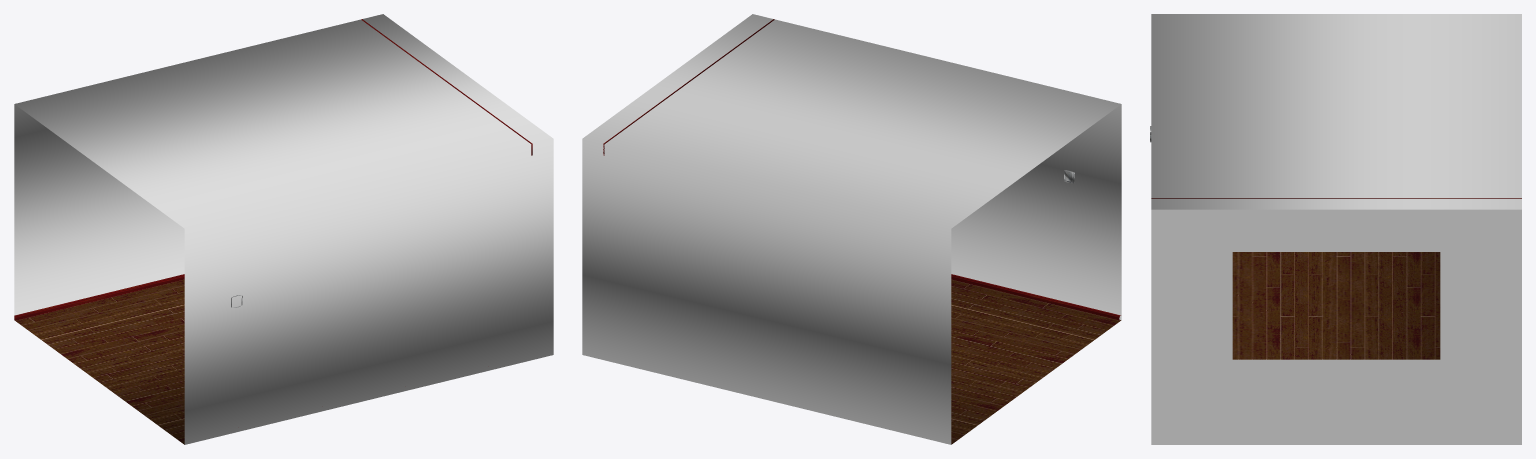
3 renders of one model, left to right at view 1: azimuth 30°, elevation 25°; view 2: azimuth 150°, elevation 25°; view 3: azimuth 270°, elevation 25°, orthographic. The views are drawn at different scales.
Parts seen in each view (by area): view 1: Box001, Loft001; view 2: Box001, Loft001; view 3: Box001, Rectangle002, Rectangle004.
Boxes of the visible parts, box(x1,y1,x2,y2) form: Box001: box(14, 14, 553, 444); Loft001: box(14, 274, 184, 320); Box001: box(582, 14, 1121, 444); Loft001: box(951, 274, 1120, 320); Box001: box(1151, 14, 1521, 359); Rectangle002: box(1151, 209, 1521, 444); Rectangle004: box(1151, 198, 1521, 198).
Bounding box in the file's own units: 5000 × 2800 × 4013.
